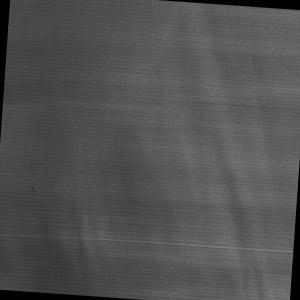Wrinkle: (155, 2, 300, 300), (46, 155, 133, 300)
